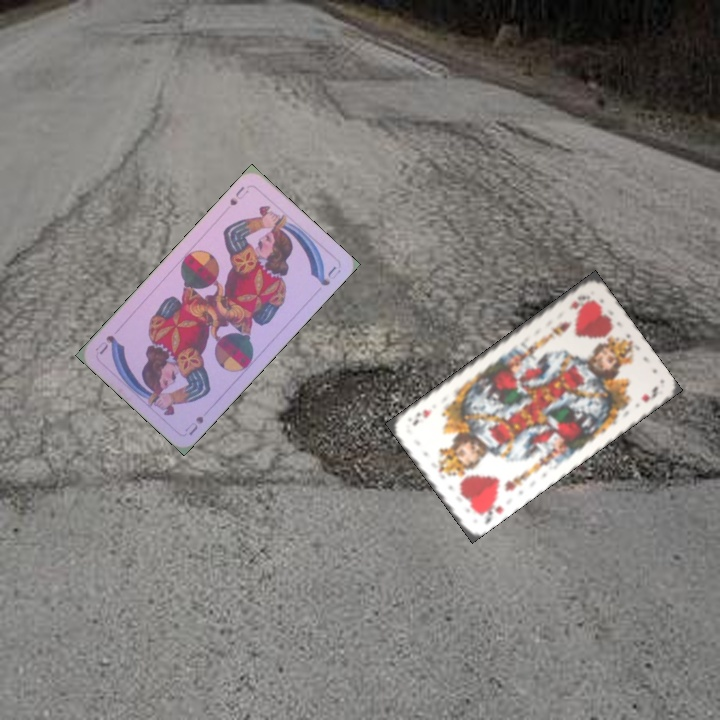HK: (475, 495, 506, 527), (565, 291, 593, 312)
SU: (180, 412, 206, 438), (226, 183, 251, 208)
